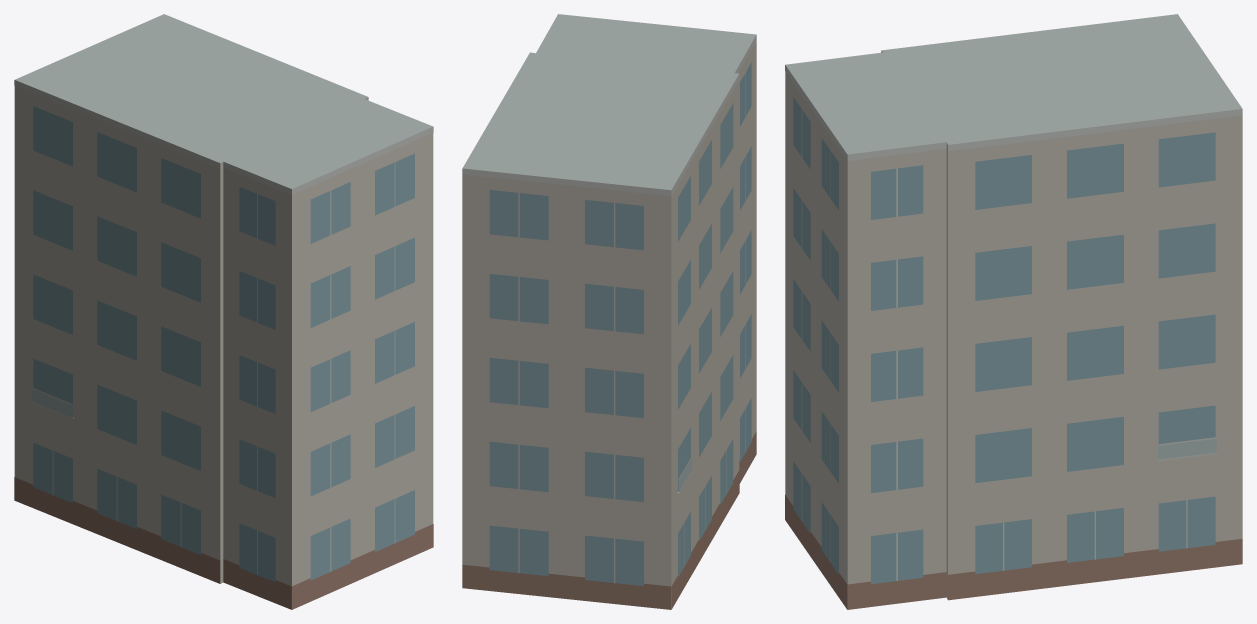
The model's file is survey-upis-32557824.glb.
3 views of the same model, side by side, from view 1: azimuth 30°, elevation 25°; view 2: azimuth 150°, elevation 25°; view 3: azimuth 270°, elevation 25° (orthographic). The views are drawn at different scales.
Parts seen in each view (by area): view 1: survey-upis-32557824.tmp; view 2: survey-upis-32557824.tmp; view 3: survey-upis-32557824.tmp.
Part boxes in pixels (<box>): survey-upis-32557824.tmp: <box>14,14,433,609</box>; survey-upis-32557824.tmp: <box>462,14,756,609</box>; survey-upis-32557824.tmp: <box>785,14,1242,609</box>.
Size of the model in its own units: 11.41 by 17.22 by 15.69.
